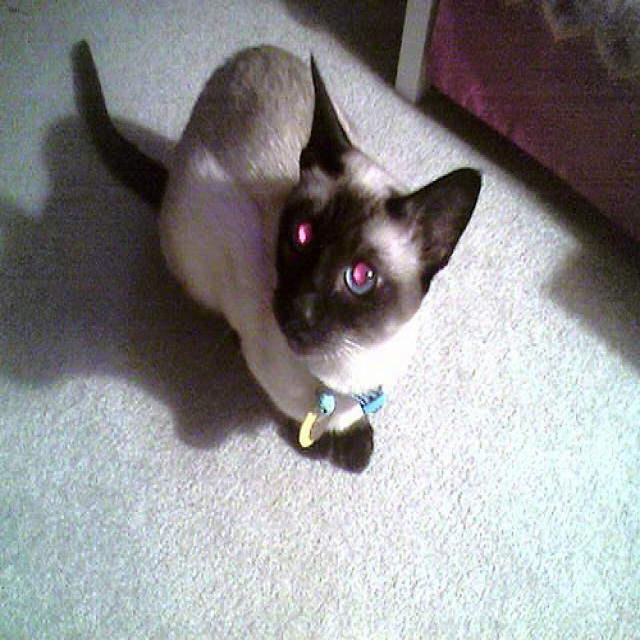Siamese: (269, 51, 479, 353)
